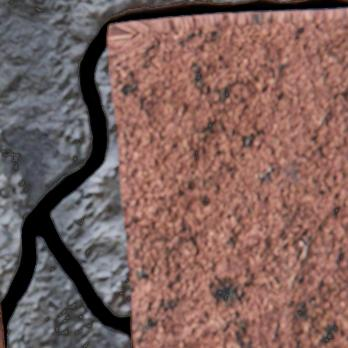brick: (107, 9, 347, 347), (0, 311, 3, 347)
crack: (0, 0, 347, 347)
